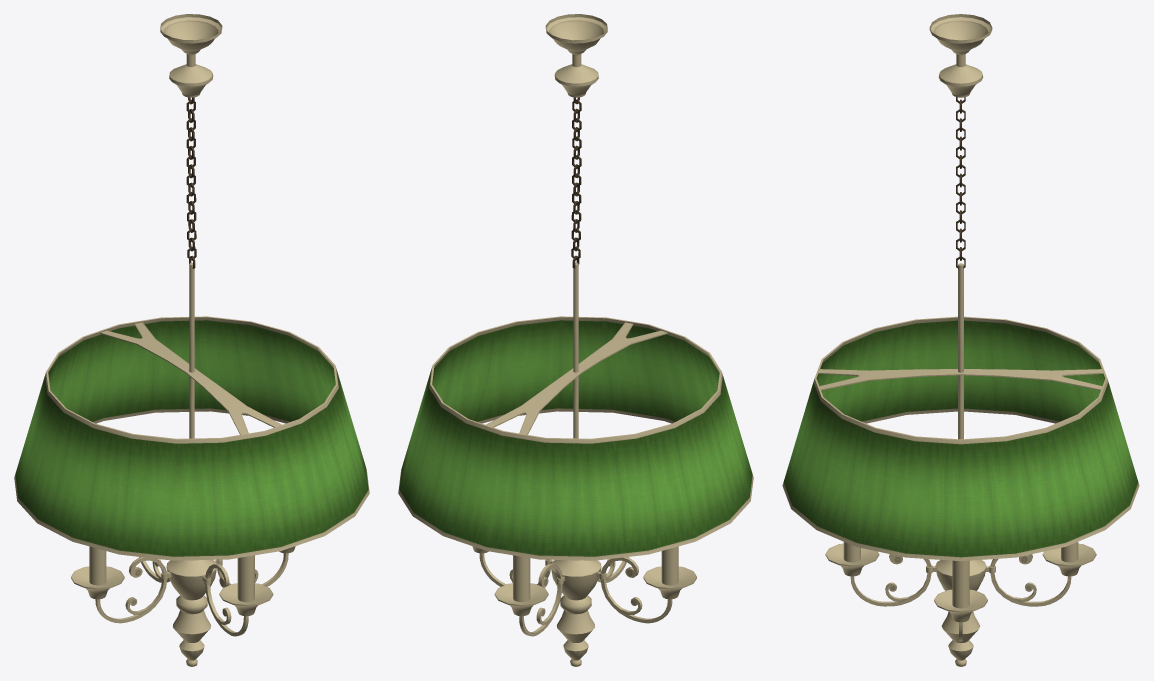
The model's file is lustra.glb.
3 renders of one model, left to right at view 1: azimuth 30°, elevation 25°; view 2: azimuth 150°, elevation 25°; view 3: azimuth 270°, elevation 25°, orthographic.
Parts seen in each view (by area): view 1: Object_2; view 2: Object_2; view 3: Object_2.
Boxes of the visible parts, <box> form: Object_2: <box>14,14,369,666</box>; Object_2: <box>398,14,753,666</box>; Object_2: <box>782,14,1139,666</box>.
Size of the model in its own units: 19.73 by 38.98 by 19.73.
Materials: 1 (1 with a texture image).
